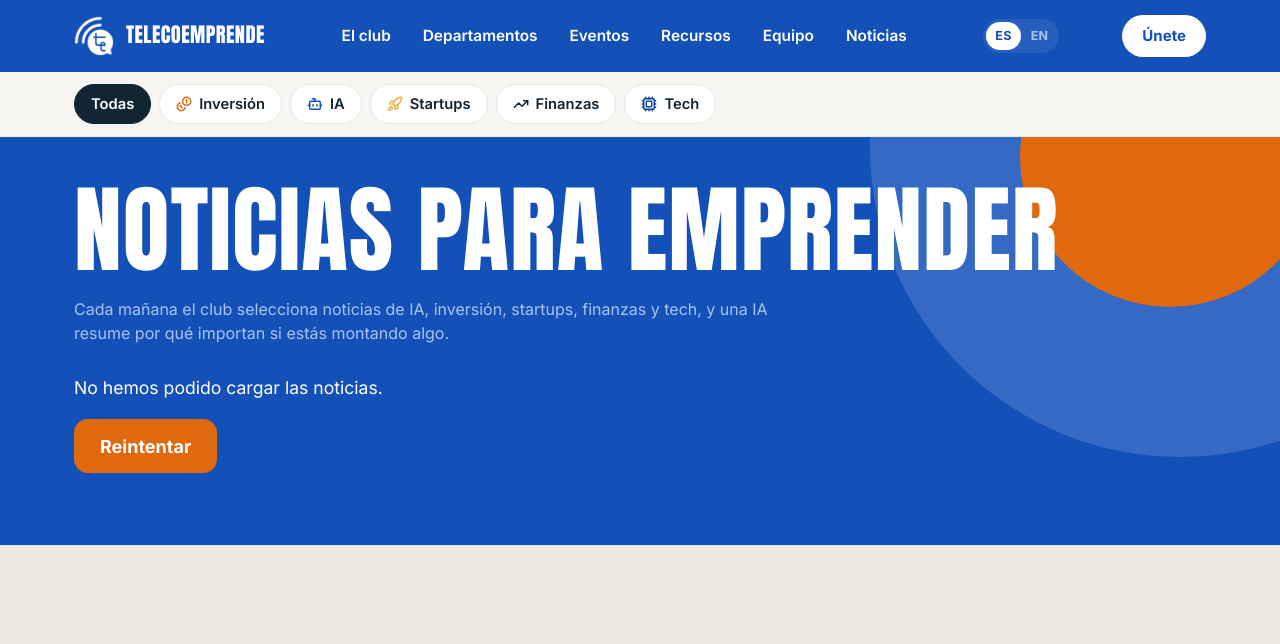
NewsPage › si la API falla ofrece reintentar y recupera
Expected: the message shows "No hemos podido cargar las noticias.", left=74, top=377, right=383, bottom=398
Click the button "Reintentar": (146, 446) left=74, top=420, right=217, bottom=474
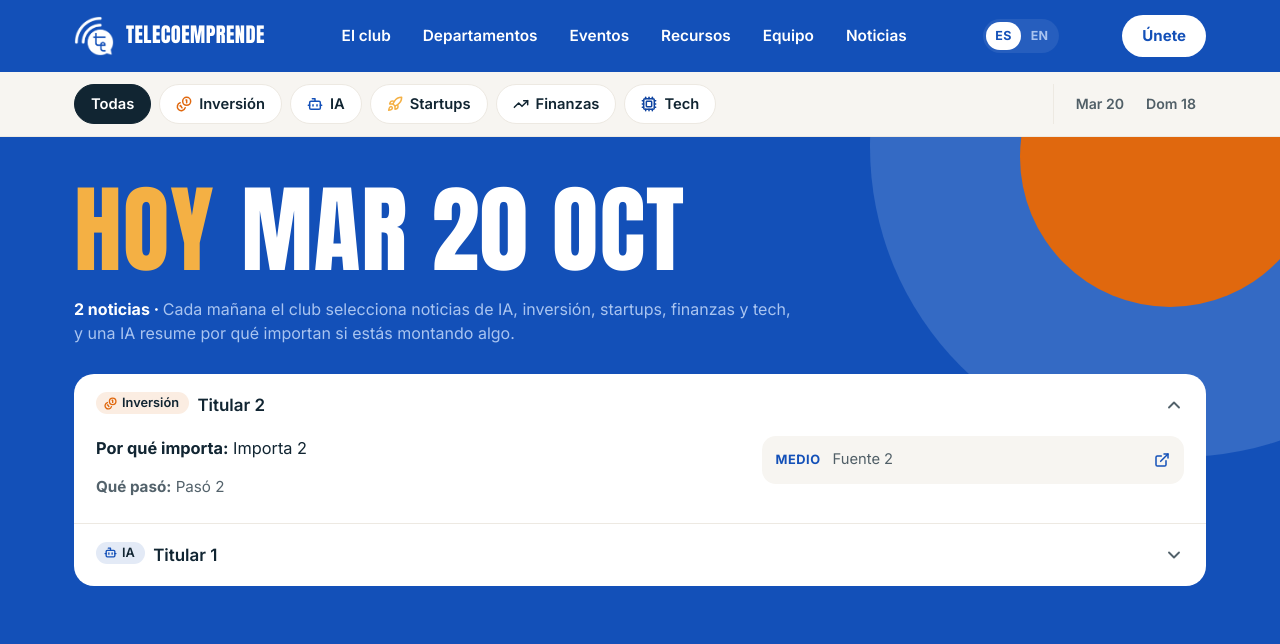
Result: the button "Inversión Titular 2" is shown at left=74, top=374, right=1206, bottom=436
